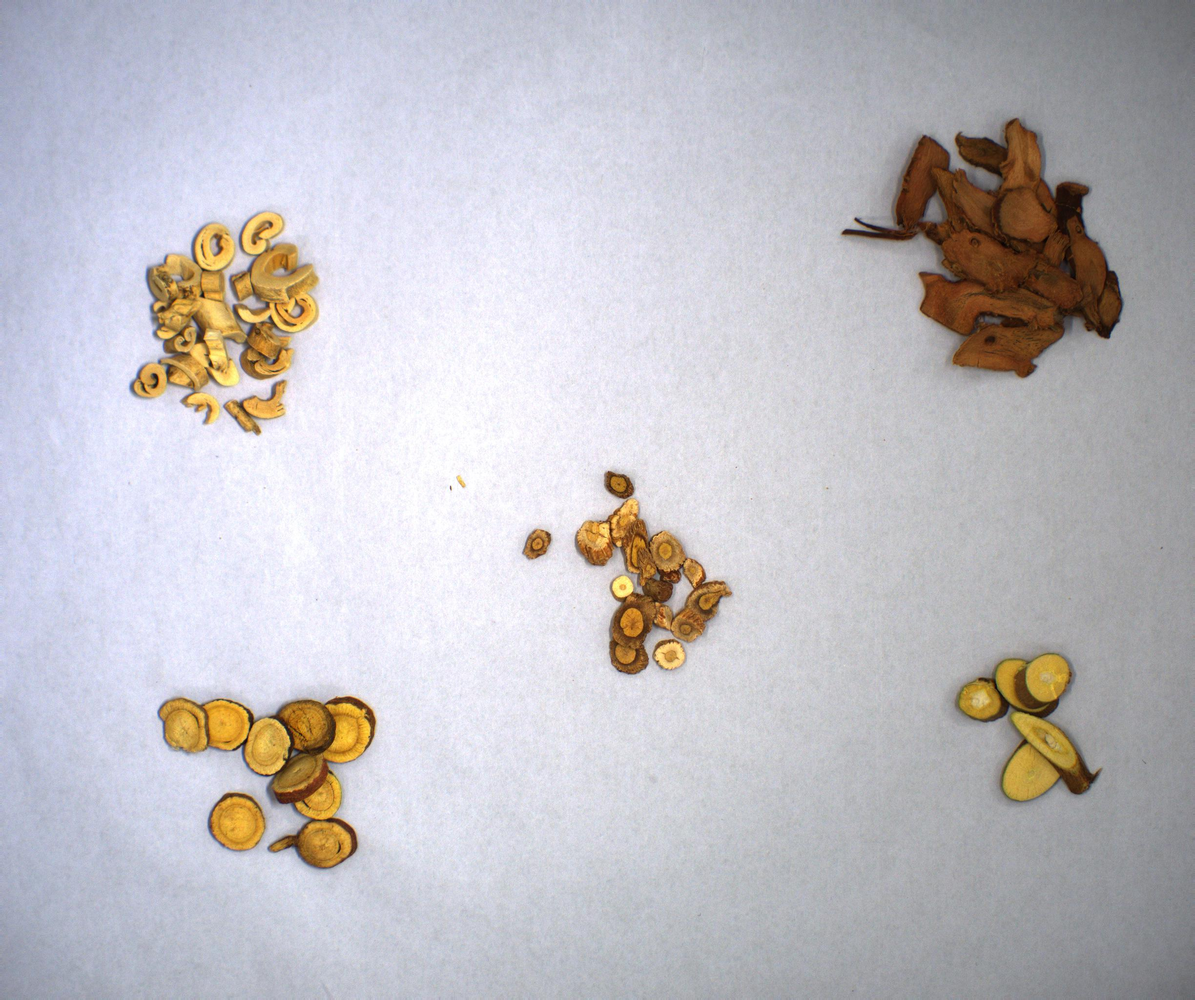baixianpi: (118, 209, 330, 449)
banlangen: (508, 466, 744, 690)
gancaopian: (144, 686, 389, 881)
gaoliangjiang: (839, 117, 1131, 388)
sangzhi: (947, 634, 1110, 823)
